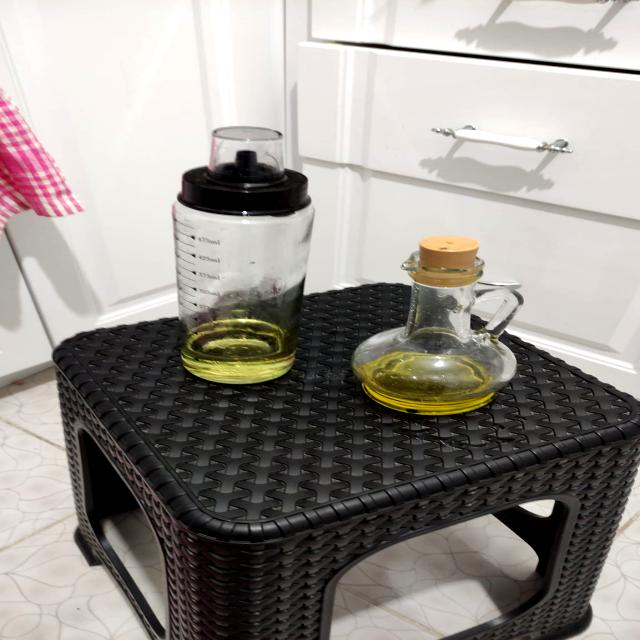olive oil: (156, 140, 332, 390), (344, 231, 539, 421)
